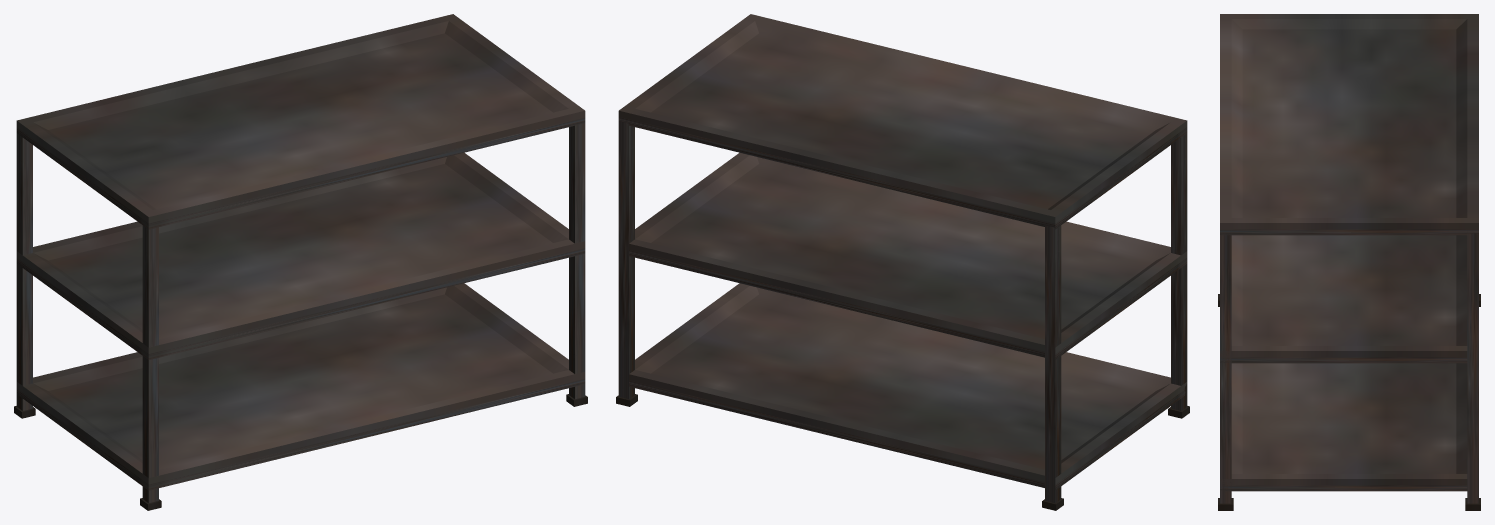
Rendered from PaslıRafNormal.fbx.
3 renders of one model, left to right at view 1: azimuth 30°, elevation 25°; view 2: azimuth 150°, elevation 25°; view 3: azimuth 270°, elevation 25°, orthographic.
Parts seen in each view (by area): view 1: Cube.001; view 2: Cube.001; view 3: Cube.001.
Part boxes in pixels (box(x1,y1,x2,y2)): Cube.001: box(14, 14, 587, 510); Cube.001: box(616, 14, 1189, 510); Cube.001: box(1218, 14, 1480, 510).
Bounding box in the file's own units: 212 × 135 × 112.
Materials: 1 (1 with a texture image).
